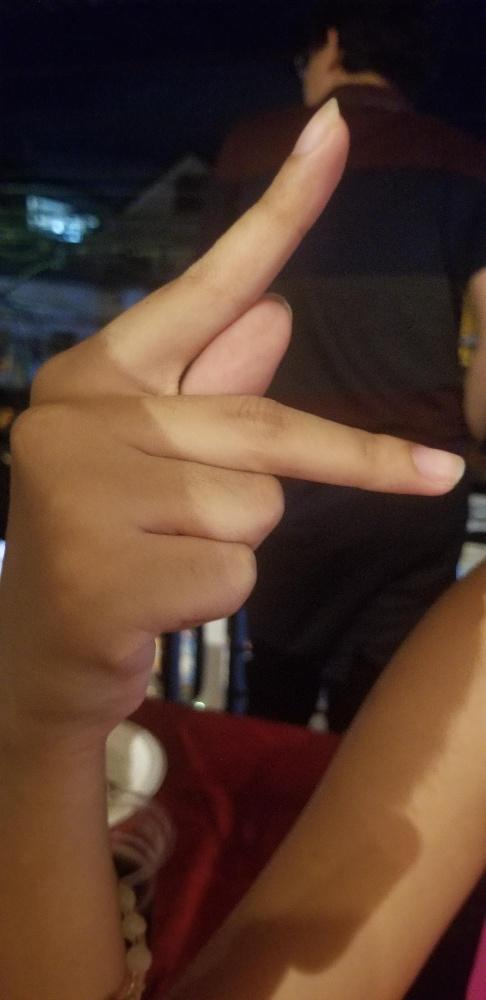k: (0, 97, 464, 720)
